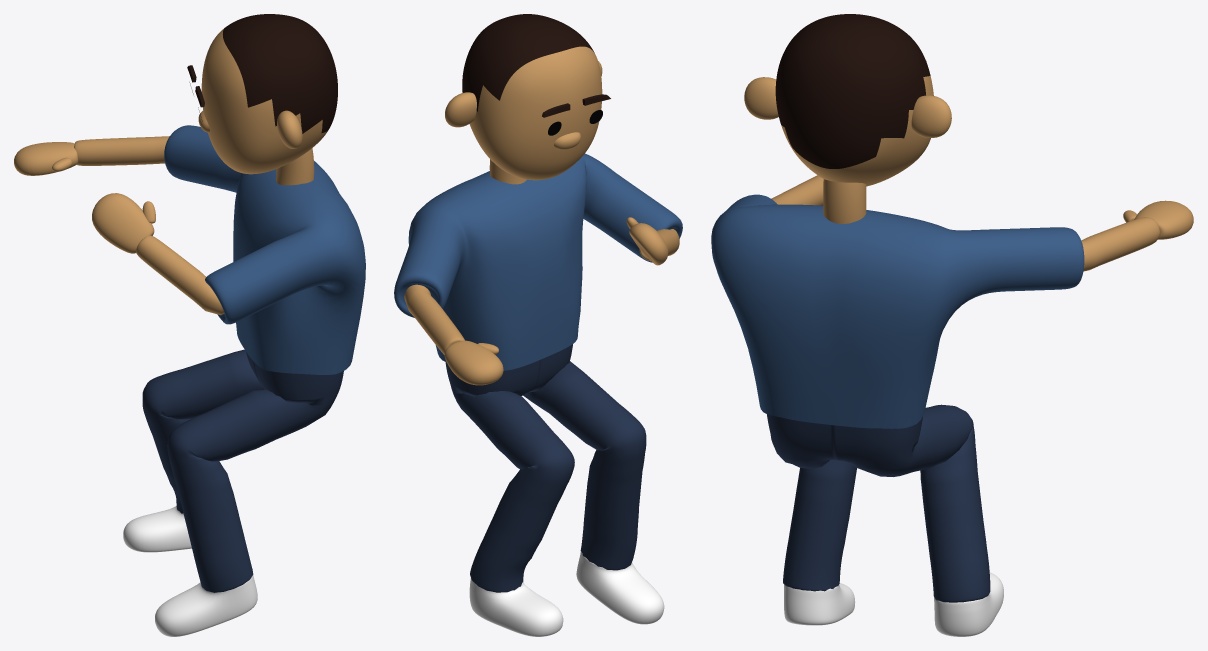
Rendered from tommy.fbx.
3 renders of one model, left to right at view 1: azimuth 30°, elevation 25°; view 2: azimuth 150°, elevation 25°; view 3: azimuth 270°, elevation 25°, orthographic. The views are drawn at different scales.
Parts seen in each view (by area): view 1: mixed-teen-shirt, mixed-teen-pants, mixed-teen-head, mixed-teen-shoes, mixed-teen-arms, mixed-teen-hands, mixed-teen-neck, mixed-teen-ears; view 2: mixed-teen-shirt, mixed-teen-pants, mixed-teen-head, mixed-teen-shoes, mixed-teen-hands, mixed-teen-arms, mixed-teen-ears; view 3: mixed-teen-shirt, mixed-teen-pants, mixed-teen-head, mixed-teen-shoes, mixed-teen-arms, mixed-teen-ears, mixed-teen-neck, mixed-teen-hands.
Part boxes in pixels (bbox=[...]): mixed-teen-shirt: bbox=[164, 125, 365, 374]; mixed-teen-pants: bbox=[142, 349, 343, 592]; mixed-teen-head: bbox=[201, 14, 337, 174]; mixed-teen-shoes: bbox=[123, 506, 257, 636]; mixed-teen-arms: bbox=[74, 136, 224, 315]; mixed-teen-hands: bbox=[14, 142, 155, 253]; mixed-teen-neck: bbox=[276, 148, 314, 185]; mixed-teen-ears: bbox=[277, 110, 302, 148]; mixed-teen-shirt: bbox=[394, 153, 682, 370]; mixed-teen-pants: bbox=[445, 344, 646, 592]; mixed-teen-head: bbox=[462, 14, 602, 180]; mixed-teen-shoes: bbox=[469, 551, 664, 636]; mixed-teen-hands: bbox=[444, 217, 668, 385]; mixed-teen-arms: bbox=[404, 229, 679, 354]; mixed-teen-ears: bbox=[445, 61, 602, 127]; mixed-teen-shirt: bbox=[711, 194, 1084, 428]; mixed-teen-pants: bbox=[767, 404, 990, 602]; mixed-teen-head: bbox=[775, 14, 933, 186]; mixed-teen-shoes: bbox=[784, 572, 1003, 636]; mixed-teen-arms: bbox=[771, 175, 1159, 271]; mixed-teen-ears: bbox=[744, 77, 951, 137]; mixed-teen-neck: bbox=[823, 179, 866, 223]; mixed-teen-hands: bbox=[1123, 200, 1193, 239].
Size of the model in its own units: 223 by 512 by 346.
